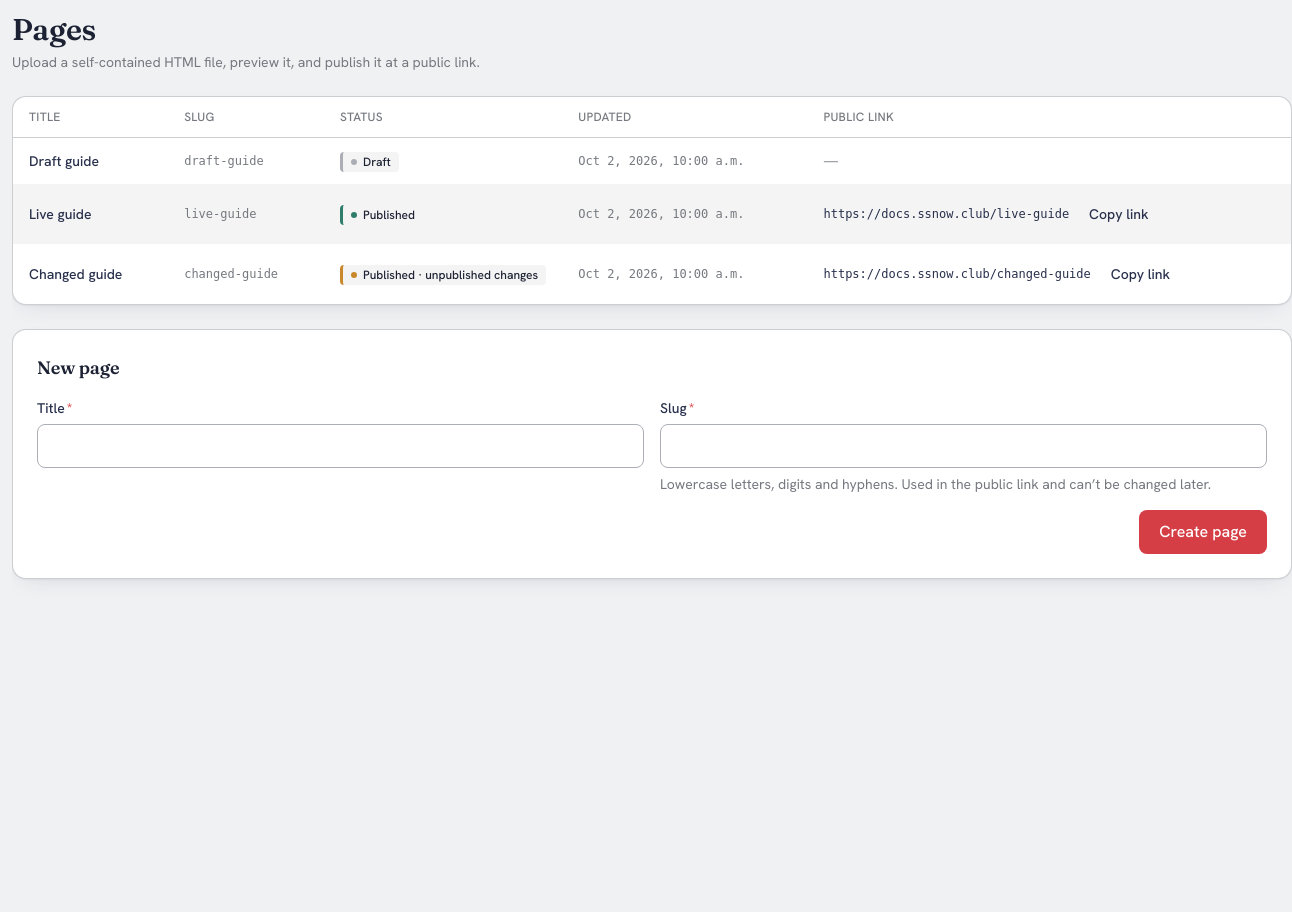
Test: PagesListPage create › shows a slug error on 409
This screenshot has width=1292, height=912.
Expected: the link "Draft guide" is shown, [29,152,99,170]
Step 1. Type "Taken" into the field labelled "Title*" → (340, 446), box [37,424,644,468]
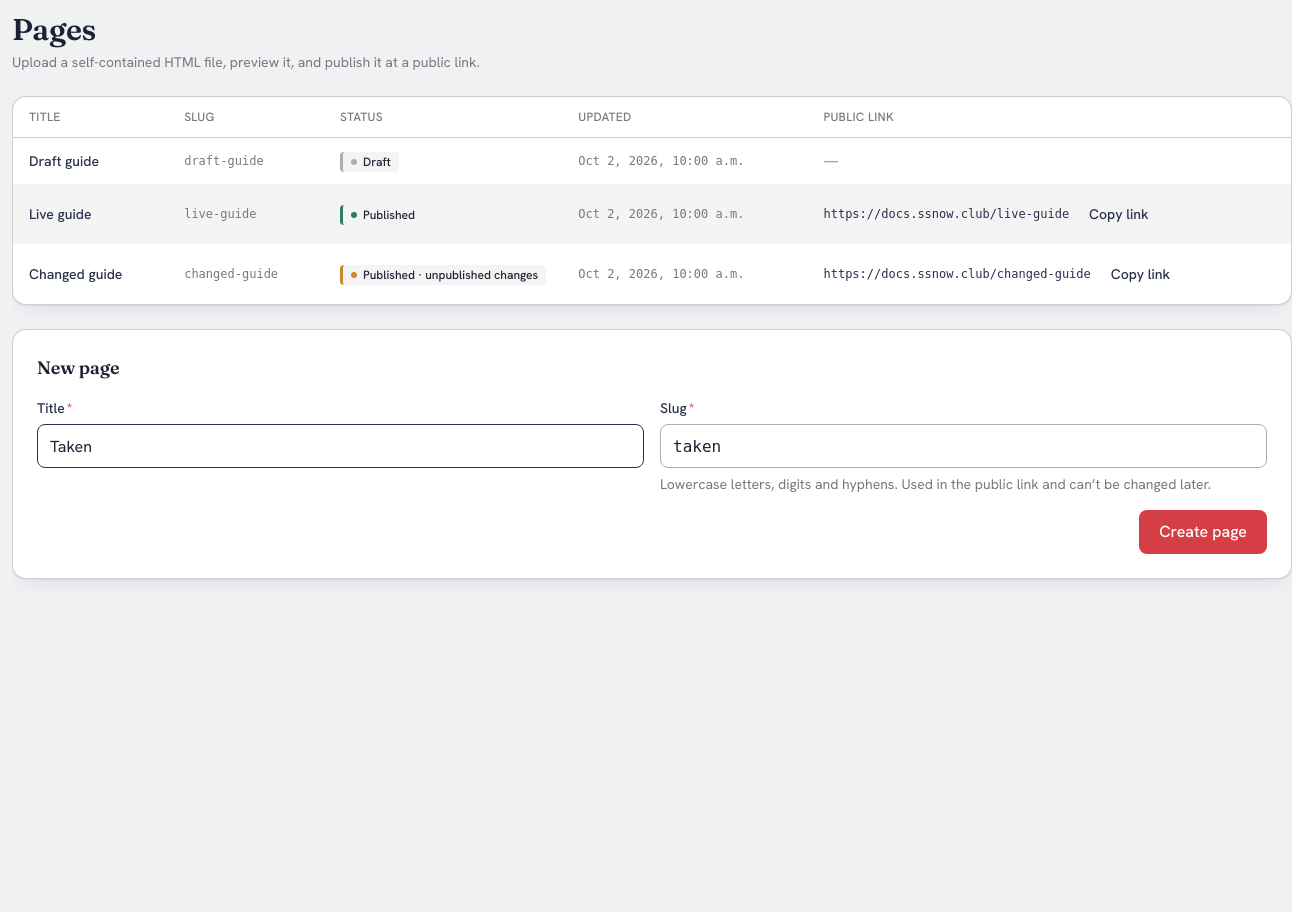
Expected: the field labelled "Slug*" holds "taken", [660,424,1267,468]
Step 2. Click the button named "Create page" → (1203, 532), box [1139,510,1267,554]
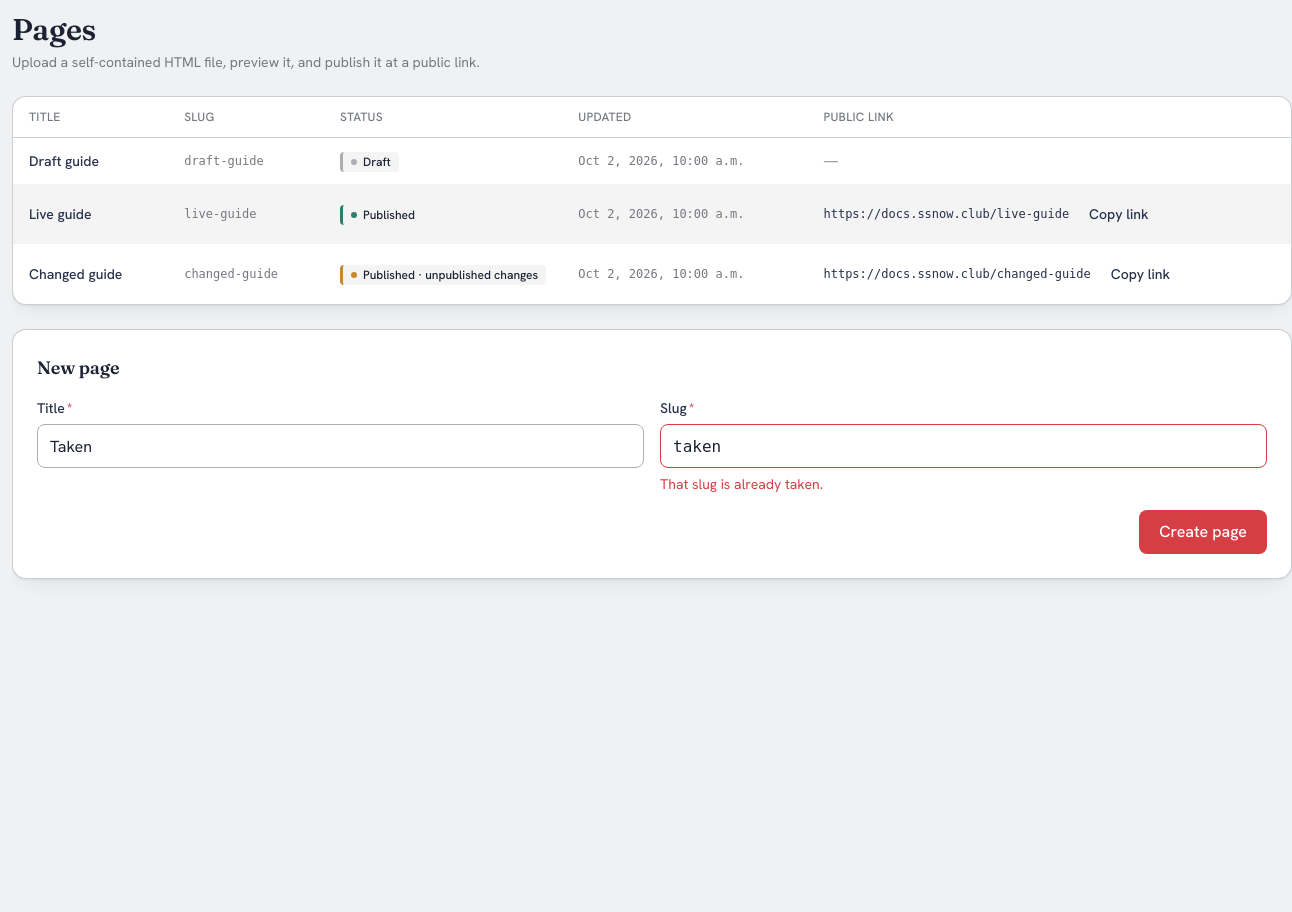
Expected: the text "That slug is already taken." is shown, [660,475,823,493]
Step 3. Type "-2" into the field labelled "Slug*" → (964, 446), box [660,424,1267,468]
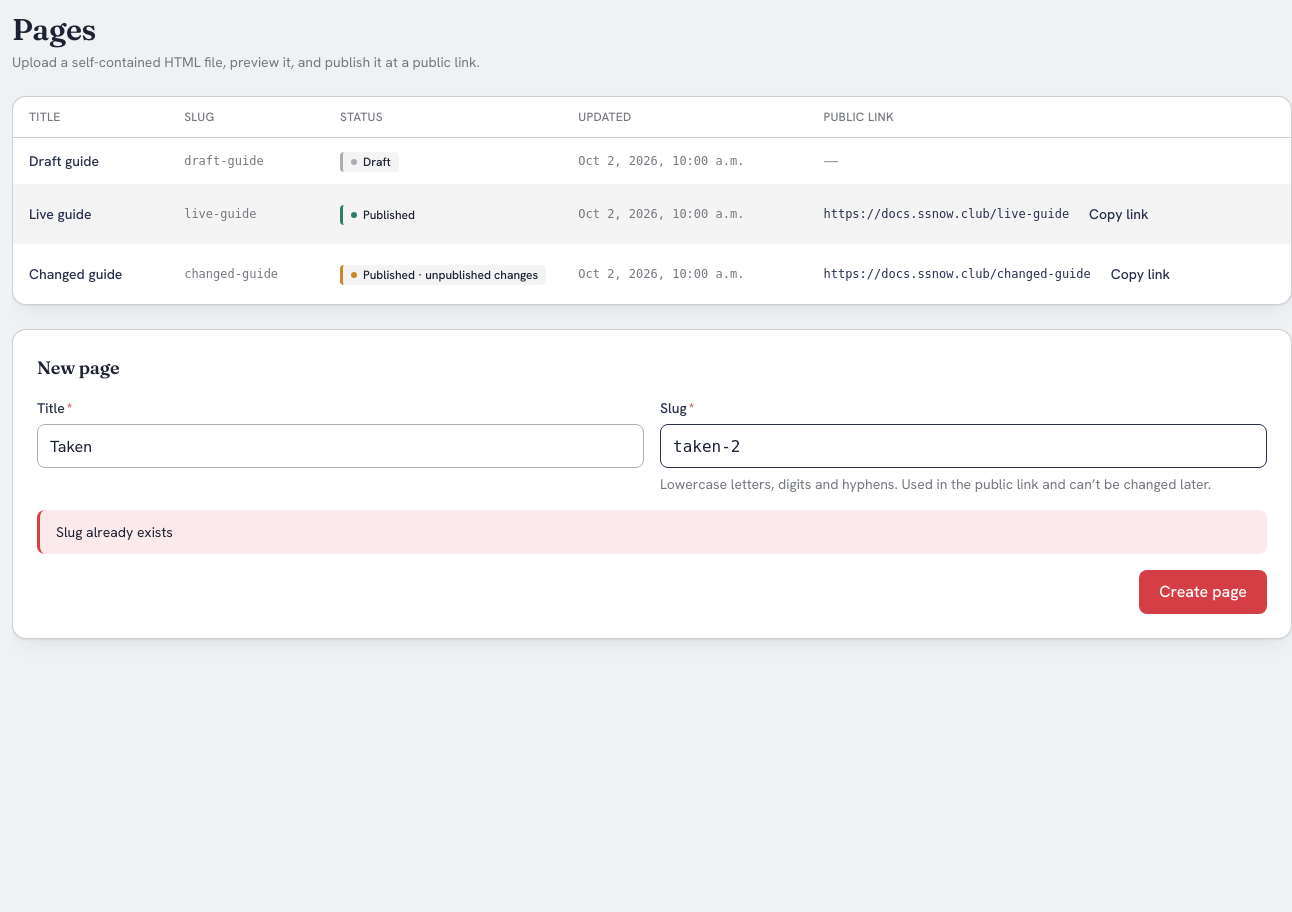
Expected: the text "That slug is already taken." is gone
